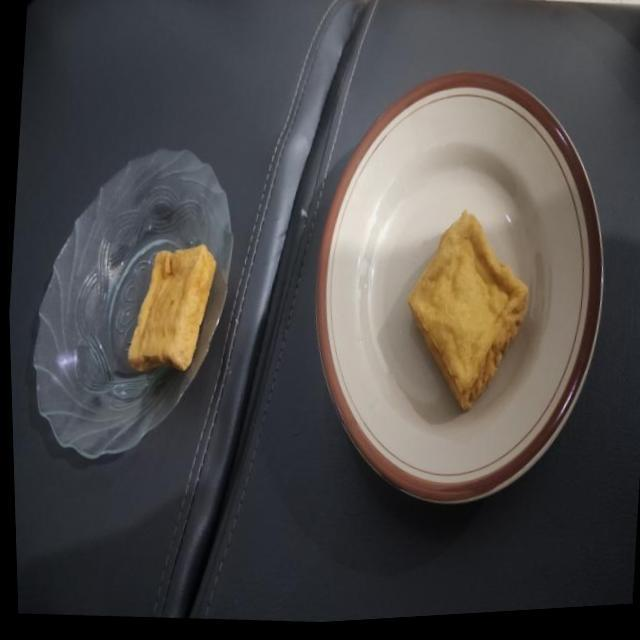tahu_goreng: (408, 210, 528, 411), (128, 244, 215, 371)
